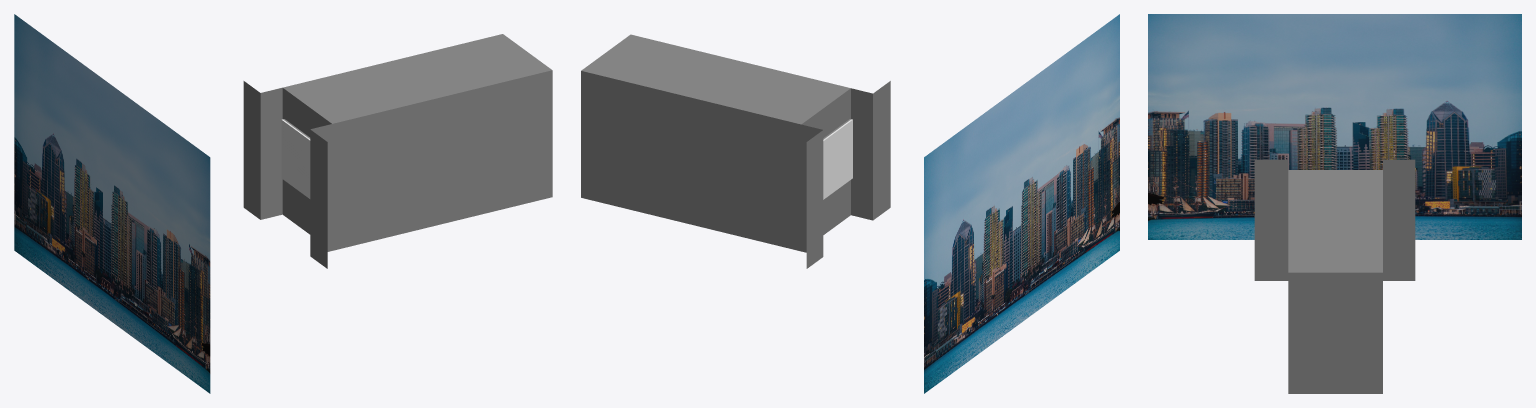
File: desk.obj
3 views of the same model, side by side, from view 1: azimuth 30°, elevation 25°; view 2: azimuth 150°, elevation 25°; view 3: azimuth 270°, elevation 25° (orthographic). The views are drawn at different scales.
Visible parts, largest first — view 1: Room.002_Cube.008, Day_nick-fewings-v3F5gFBRwCA-unsplash, CTRL_Hole; view 2: Room.002_Cube.008, Day_nick-fewings-v3F5gFBRwCA-unsplash, CTRL_Hole; view 3: Day_nick-fewings-v3F5gFBRwCA-unsplash, Room.002_Cube.008.
Boxes of the visible parts, bbox=[...] form: Room.002_Cube.008: bbox=[243, 34, 552, 268]; Day_nick-fewings-v3F5gFBRwCA-unsplash: bbox=[14, 14, 210, 393]; CTRL_Hole: bbox=[281, 119, 310, 198]; Room.002_Cube.008: bbox=[581, 34, 890, 268]; Day_nick-fewings-v3F5gFBRwCA-unsplash: bbox=[924, 14, 1119, 393]; CTRL_Hole: bbox=[823, 119, 852, 199]; Day_nick-fewings-v3F5gFBRwCA-unsplash: bbox=[1148, 14, 1521, 239]; Room.002_Cube.008: bbox=[1254, 159, 1415, 393].
Size of the model in its own units: 10.09 by 5.49 by 8.23.
56 materials, 5 textured.
